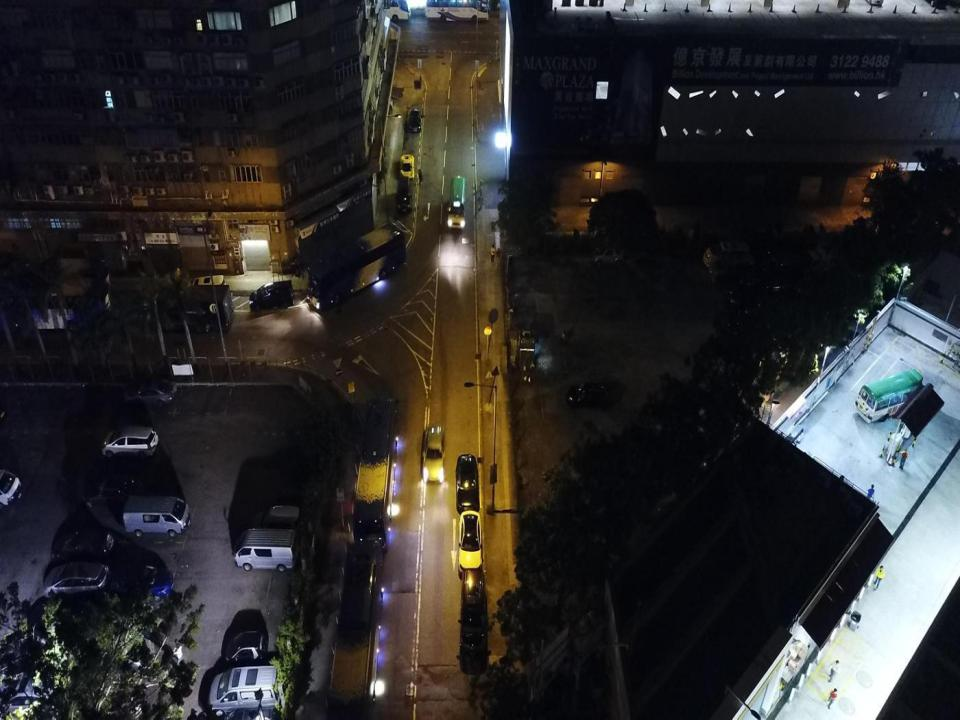bus: (328, 543, 384, 719), (306, 222, 406, 311), (353, 398, 399, 554), (0, 281, 110, 331), (4, 257, 111, 299), (854, 368, 923, 424), (424, 0, 490, 26), (344, 0, 412, 22), (446, 176, 466, 229)
car: (113, 565, 174, 601), (50, 532, 114, 566), (82, 476, 143, 509), (457, 511, 483, 577), (253, 503, 304, 536), (455, 452, 479, 513), (123, 377, 177, 404), (226, 630, 268, 664), (422, 426, 445, 481), (566, 381, 609, 409), (594, 243, 626, 265), (725, 274, 762, 291), (730, 286, 763, 305), (399, 153, 415, 181), (408, 108, 422, 132)
truck: (139, 284, 234, 333), (803, 239, 858, 272)
van: (209, 666, 281, 716), (123, 495, 191, 537), (0, 674, 71, 714), (234, 528, 299, 570), (459, 568, 487, 654), (43, 562, 112, 596), (101, 425, 159, 458), (249, 280, 295, 312), (710, 253, 755, 280), (704, 240, 749, 266), (184, 275, 227, 300), (396, 176, 412, 215)
